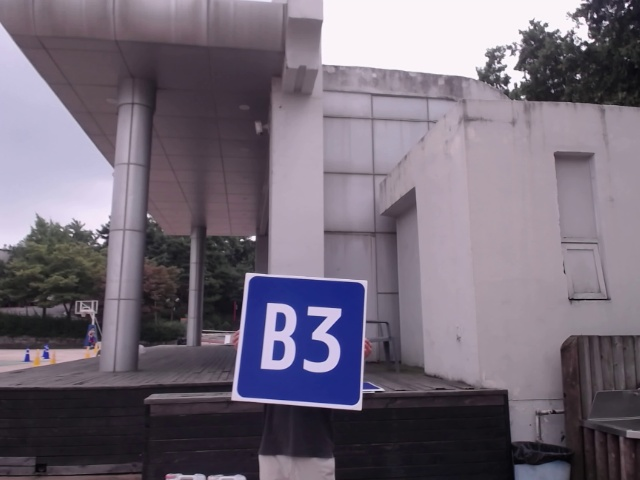delivery_b3: (237, 276, 364, 407)
